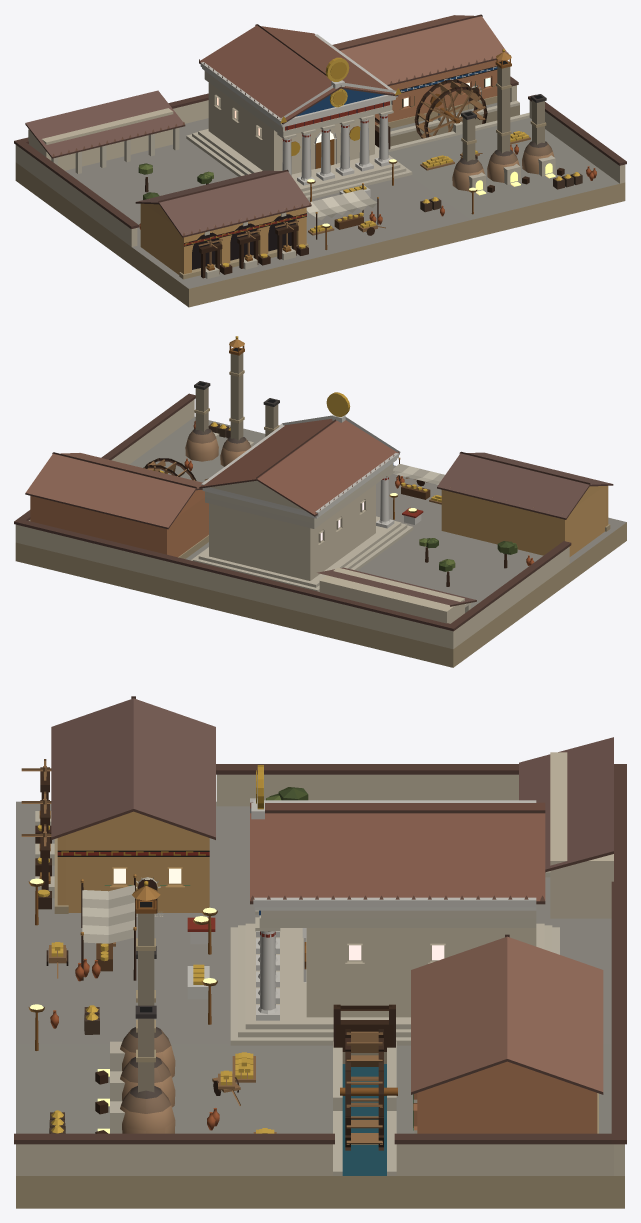
The model's file is mint.glb.
3 renders of one model, top to bottom at view 1: azimuth 30°, elevation 25°; view 2: azimuth 150°, elevation 25°; view 3: azimuth 270°, elevation 25°, orthographic. The views are drawn at different scales.
Visible parts, largest first — view 1: mint_body, wheel; view 2: mint_body, wheel; view 3: mint_body, wheel, mint_body_windows.
Boxes of the visible parts, x1,y1,x2,y2 form: mint_body: (14, 14, 626, 307); wheel: (414, 80, 487, 138); mint_body: (14, 336, 626, 667); wheel: (143, 458, 196, 480); mint_body: (14, 696, 626, 1208); wheel: (340, 1029, 397, 1150); mint_body_windows: (113, 868, 444, 960).
Size of the model in its own units: 64.3 by 20.71 by 44.3.
